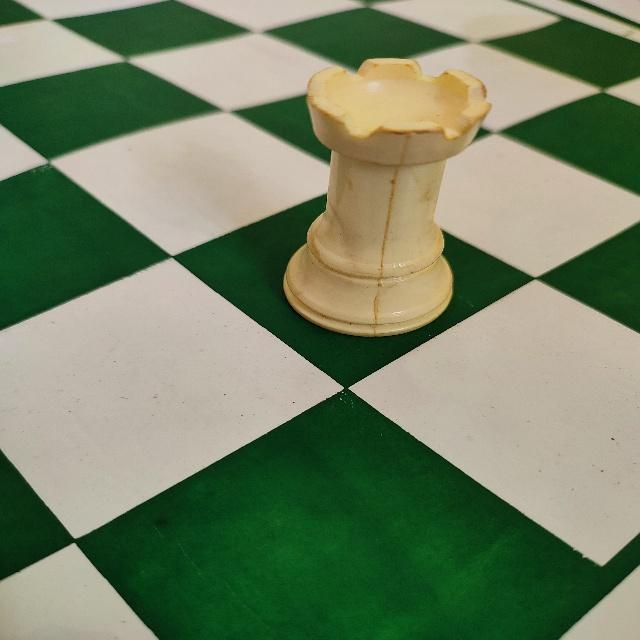Rook: (277, 52, 493, 342)
